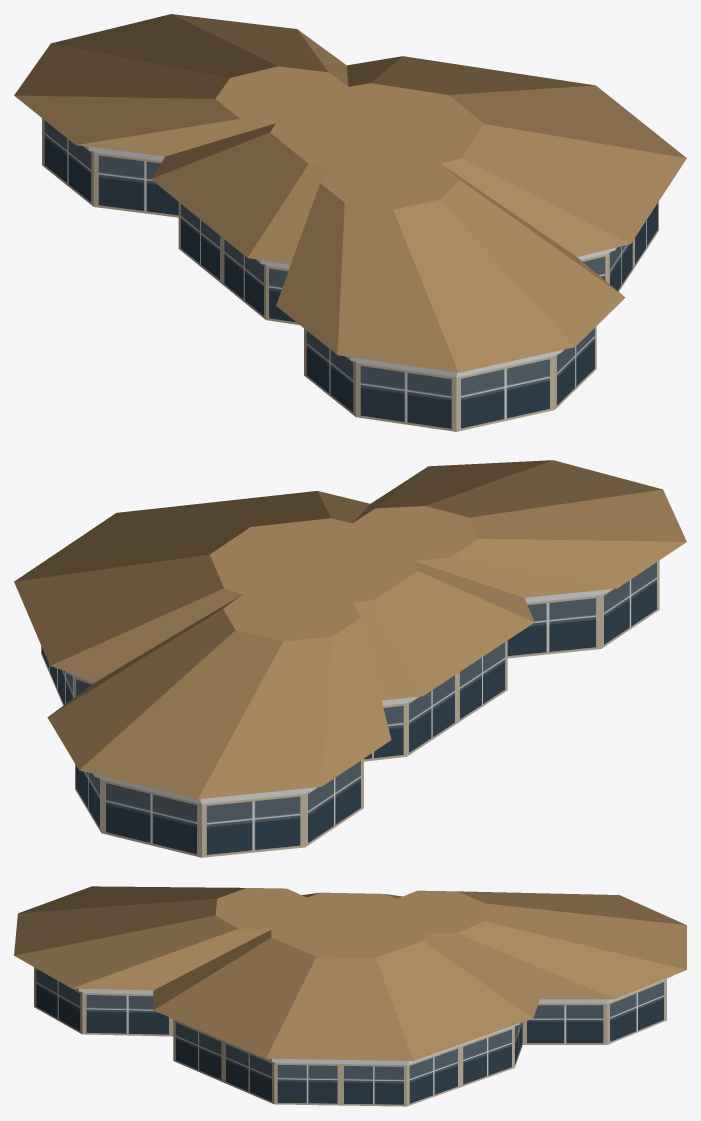
Rendered from papagayo.glb.
3 renders of one model, top to bottom at view 1: azimuth 30°, elevation 25°; view 2: azimuth 150°, elevation 25°; view 3: azimuth 270°, elevation 25°, orthographic. The views are drawn at different scales.
Visible parts, largest first — view 1: papagayo_lod0; view 2: papagayo_lod0; view 3: papagayo_lod0.
Part boxes in pixels (box(x1,y1,x2,y2)): papagayo_lod0: box(14, 14, 686, 431); papagayo_lod0: box(14, 460, 686, 857); papagayo_lod0: box(14, 886, 686, 1106).
Size of what is drawn, in the model's own units: 24.94 by 6.2 by 40.62.
3 materials, 1 textured.
